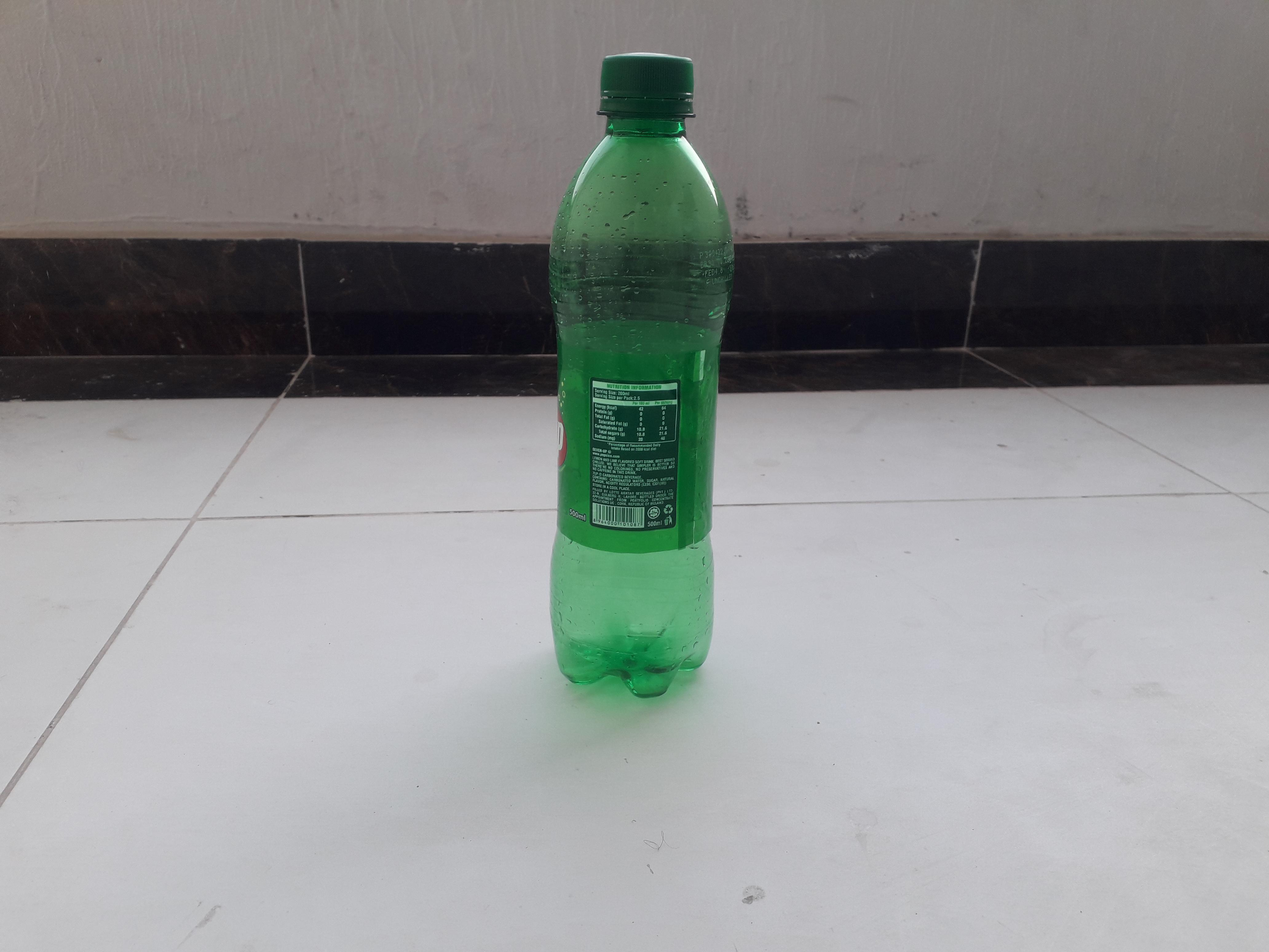bottle-plastic: (554, 48, 735, 705)
